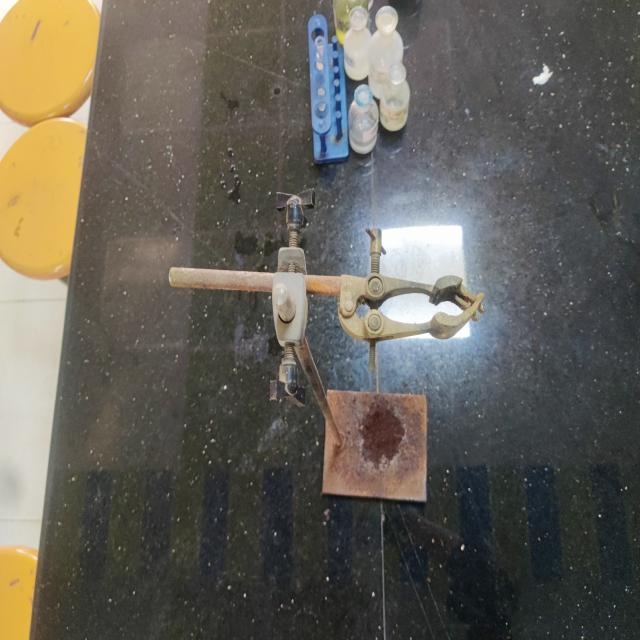Burette_Stands: (156, 181, 494, 550)
